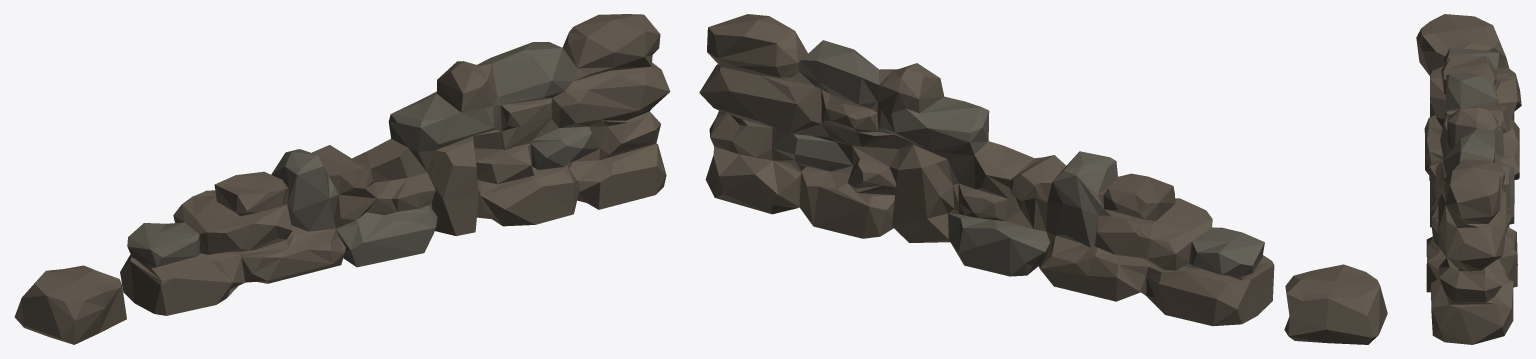
Rendered from synty-prop-stonewall-02.gltf.
3 renders of one model, left to right at view 1: azimuth 30°, elevation 25°; view 2: azimuth 150°, elevation 25°; view 3: azimuth 270°, elevation 25°, orthographic. The views are drawn at different scales.
Visible parts, largest first — view 1: SM_Prop_StoneWall_02; view 2: SM_Prop_StoneWall_02; view 3: SM_Prop_StoneWall_02.
Part boxes in pixels (box(x1,y1,x2,y2)): SM_Prop_StoneWall_02: box(14, 14, 670, 344); SM_Prop_StoneWall_02: box(699, 14, 1387, 344); SM_Prop_StoneWall_02: box(1416, 14, 1521, 344).
Bounding box in the file's own units: 4.27 × 1.08 × 0.6368.
1 material, 1 textured.
